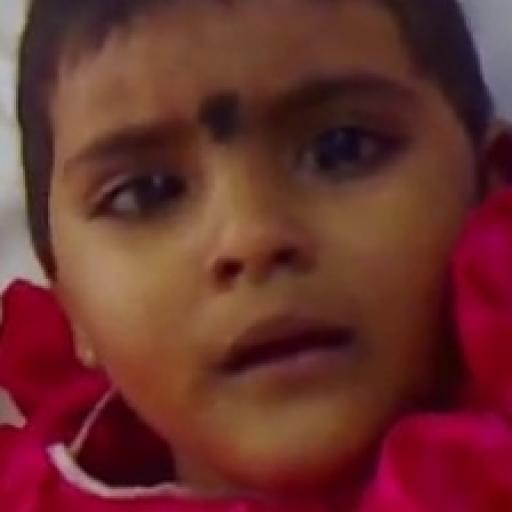Autism: (46, 12, 482, 498)
